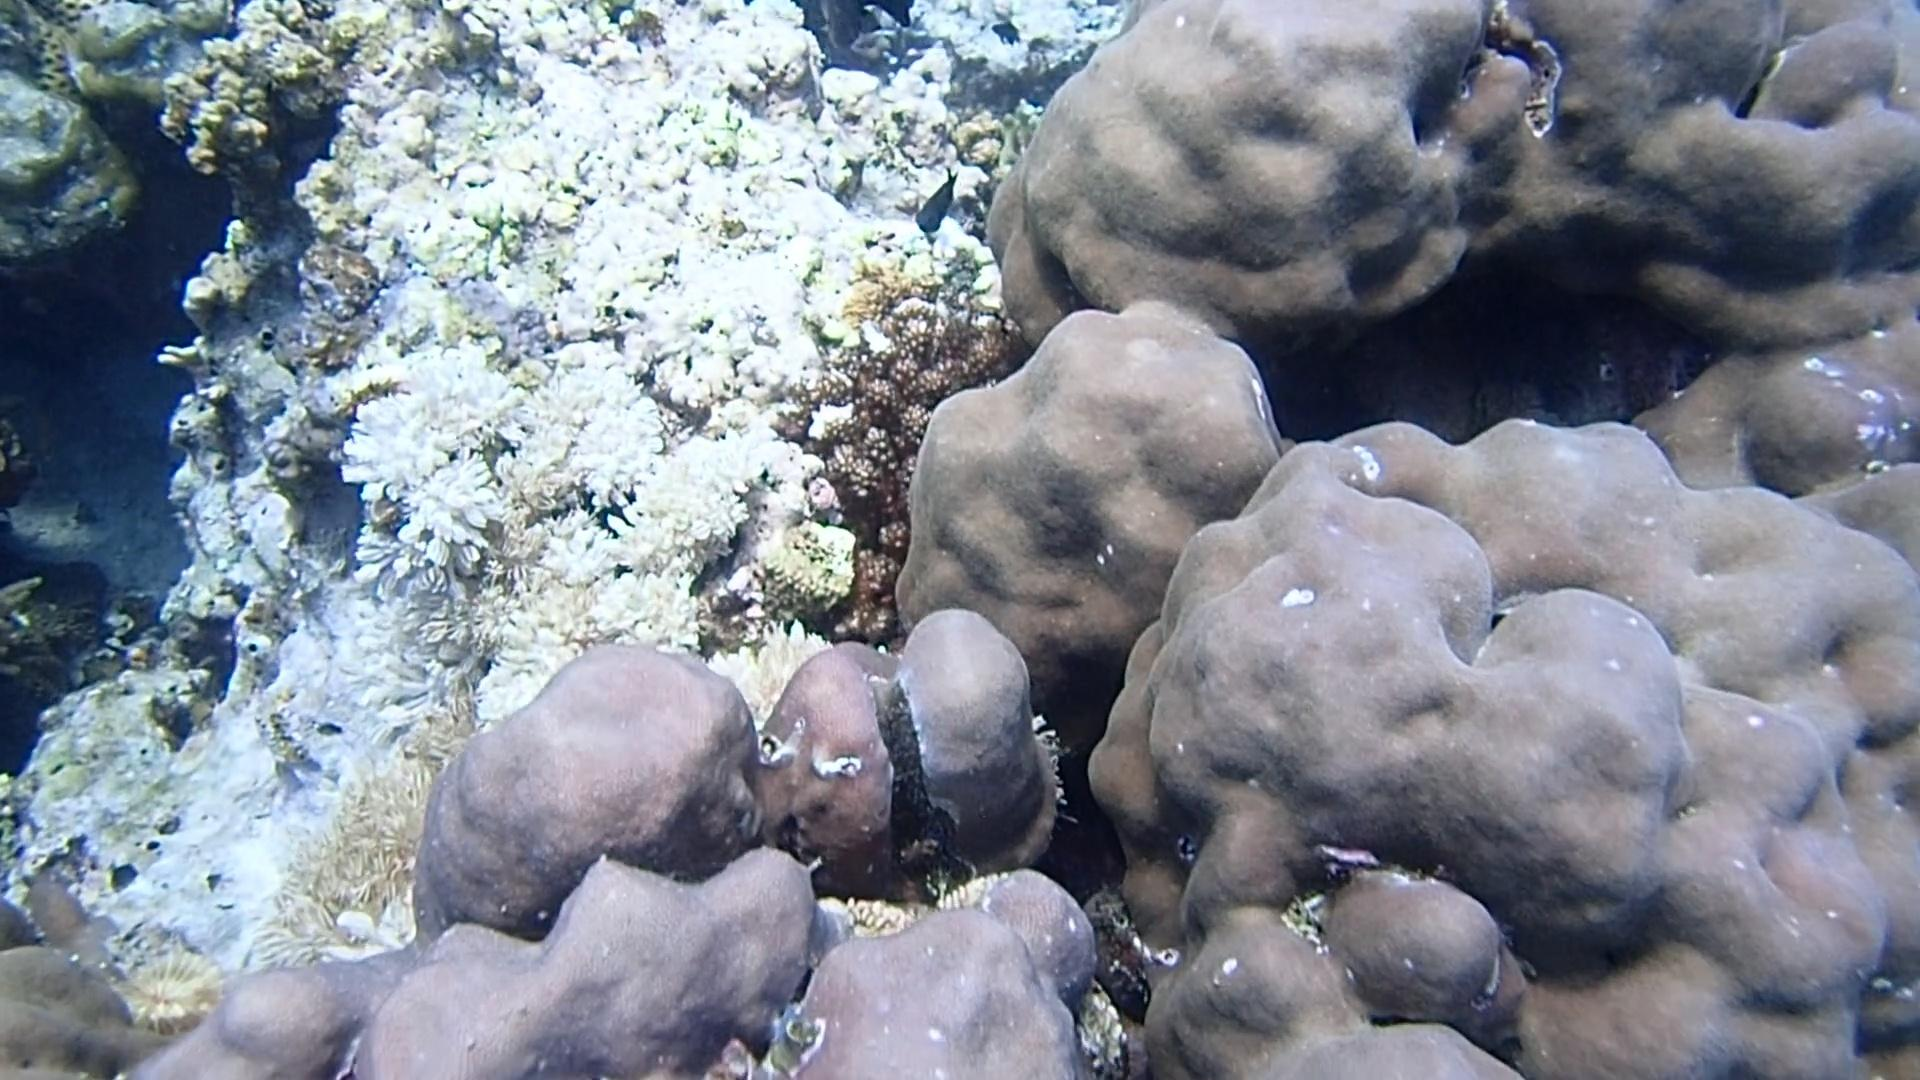Dark Fish: (905, 158, 968, 245), (986, 13, 1027, 50)
